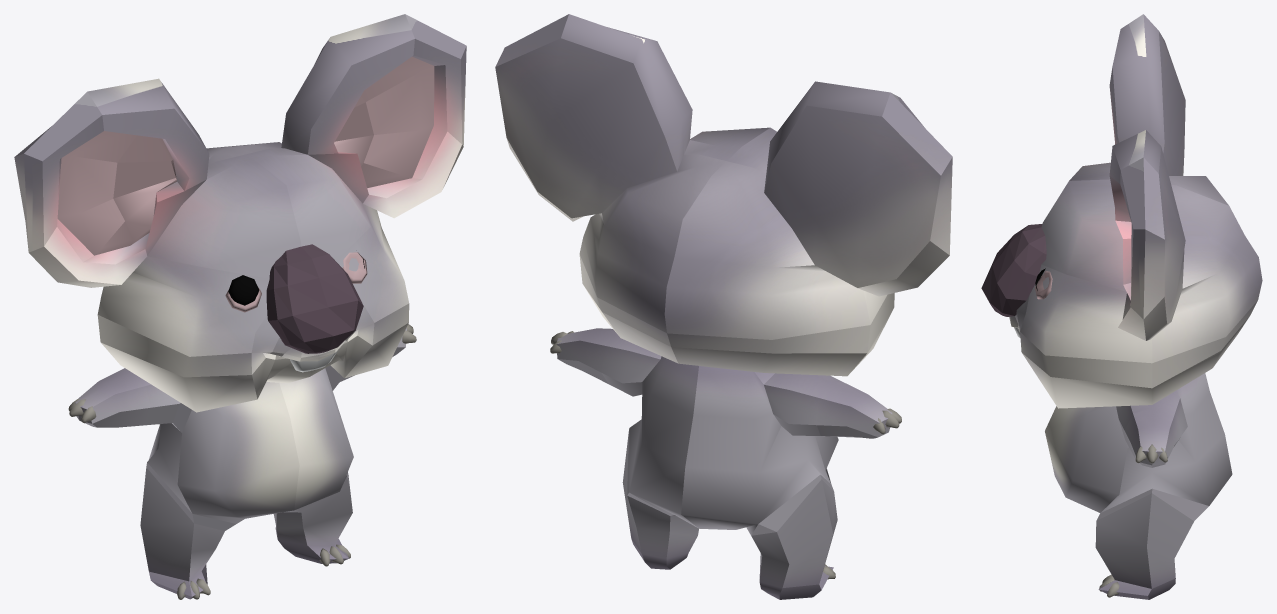
The model's file is Koala_FBX.fbx.
3 views of the same model, side by side, from view 1: azimuth 30°, elevation 25°; view 2: azimuth 150°, elevation 25°; view 3: azimuth 270°, elevation 25° (orthographic). The views are drawn at different scales.
Parts seen in each view (by area): view 1: Cabeza_Proxy, Cuerpo_Proxy, nose, right_eye; view 2: Cabeza_Proxy, Cuerpo_Proxy; view 3: Cabeza_Proxy, Cuerpo_Proxy, nose.
Boxes of the visible parts, x1,y1,x2,y2 form: Cabeza_Proxy: (14,14,466,412); Cuerpo_Proxy: (75,328,406,599); nose: (266,244,363,353); right_eye: (225,275,261,312); Cabeza_Proxy: (495,14,952,376); Cuerpo_Proxy: (556,328,892,599); Cabeza_Proxy: (1009,14,1262,408); Cuerpo_Proxy: (1045,373,1232,599); nose: (981,224,1046,316).
Bounding box in the file's own units: 2.84 × 3.15 × 1.69.
Materials: 11 (4 with a texture image).
